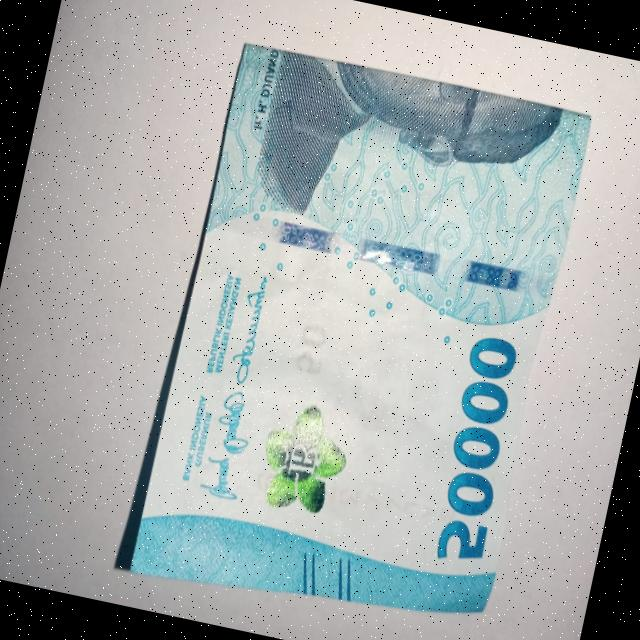50K: (121, 21, 598, 640)
